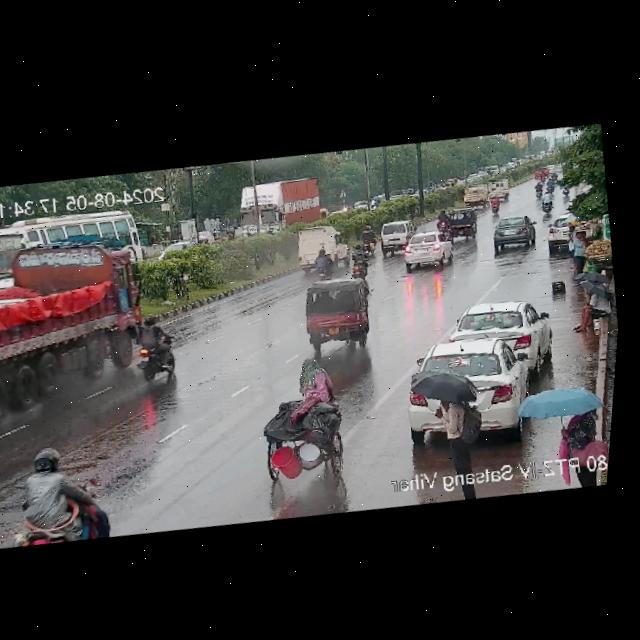bus: (0, 199, 149, 303)
car: (398, 331, 540, 451), (444, 293, 559, 388), (296, 273, 381, 350), (284, 218, 356, 277), (542, 207, 604, 259), (395, 229, 455, 274), (490, 212, 542, 254), (438, 205, 480, 243), (376, 217, 420, 252), (210, 226, 236, 244)
motorcycle: (0, 438, 116, 553), (131, 312, 186, 386), (345, 240, 372, 281), (355, 223, 382, 258), (310, 245, 333, 282), (484, 194, 508, 217), (539, 190, 554, 214), (435, 207, 449, 232), (544, 176, 556, 194), (533, 182, 544, 201)
person: (403, 366, 495, 477), (520, 377, 614, 462), (567, 268, 621, 337), (565, 228, 592, 275)
truck: (0, 241, 148, 384), (235, 170, 329, 241)
